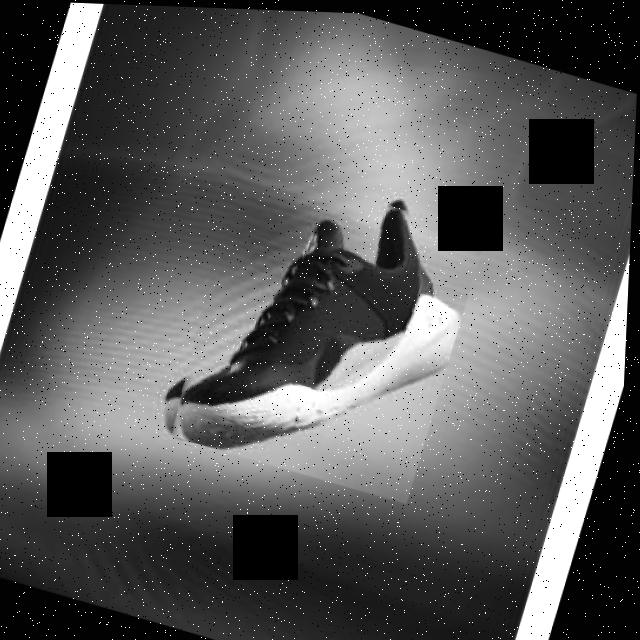shoe: (156, 148, 493, 502)
